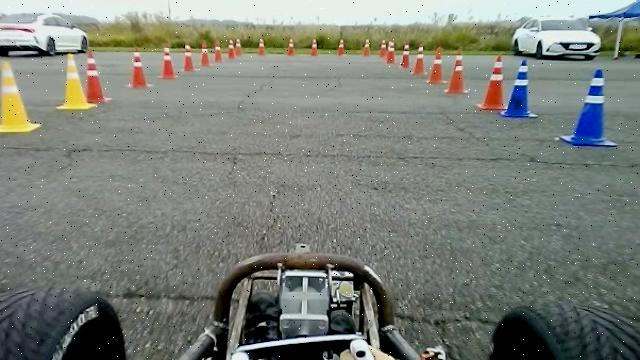blue cone: (560, 67, 619, 147), (501, 58, 539, 118)
red cone: (476, 54, 508, 110), (85, 50, 112, 103), (124, 45, 151, 88), (445, 49, 470, 94), (426, 46, 449, 84), (158, 46, 180, 79), (412, 46, 428, 77), (183, 42, 198, 72), (398, 43, 412, 68), (200, 39, 210, 66), (214, 36, 223, 63), (386, 40, 395, 64), (286, 38, 296, 56), (310, 38, 319, 56), (337, 38, 346, 56), (228, 38, 236, 58), (363, 38, 371, 56), (258, 38, 266, 54), (235, 38, 242, 56)
yellow cone: (0, 60, 42, 133)
